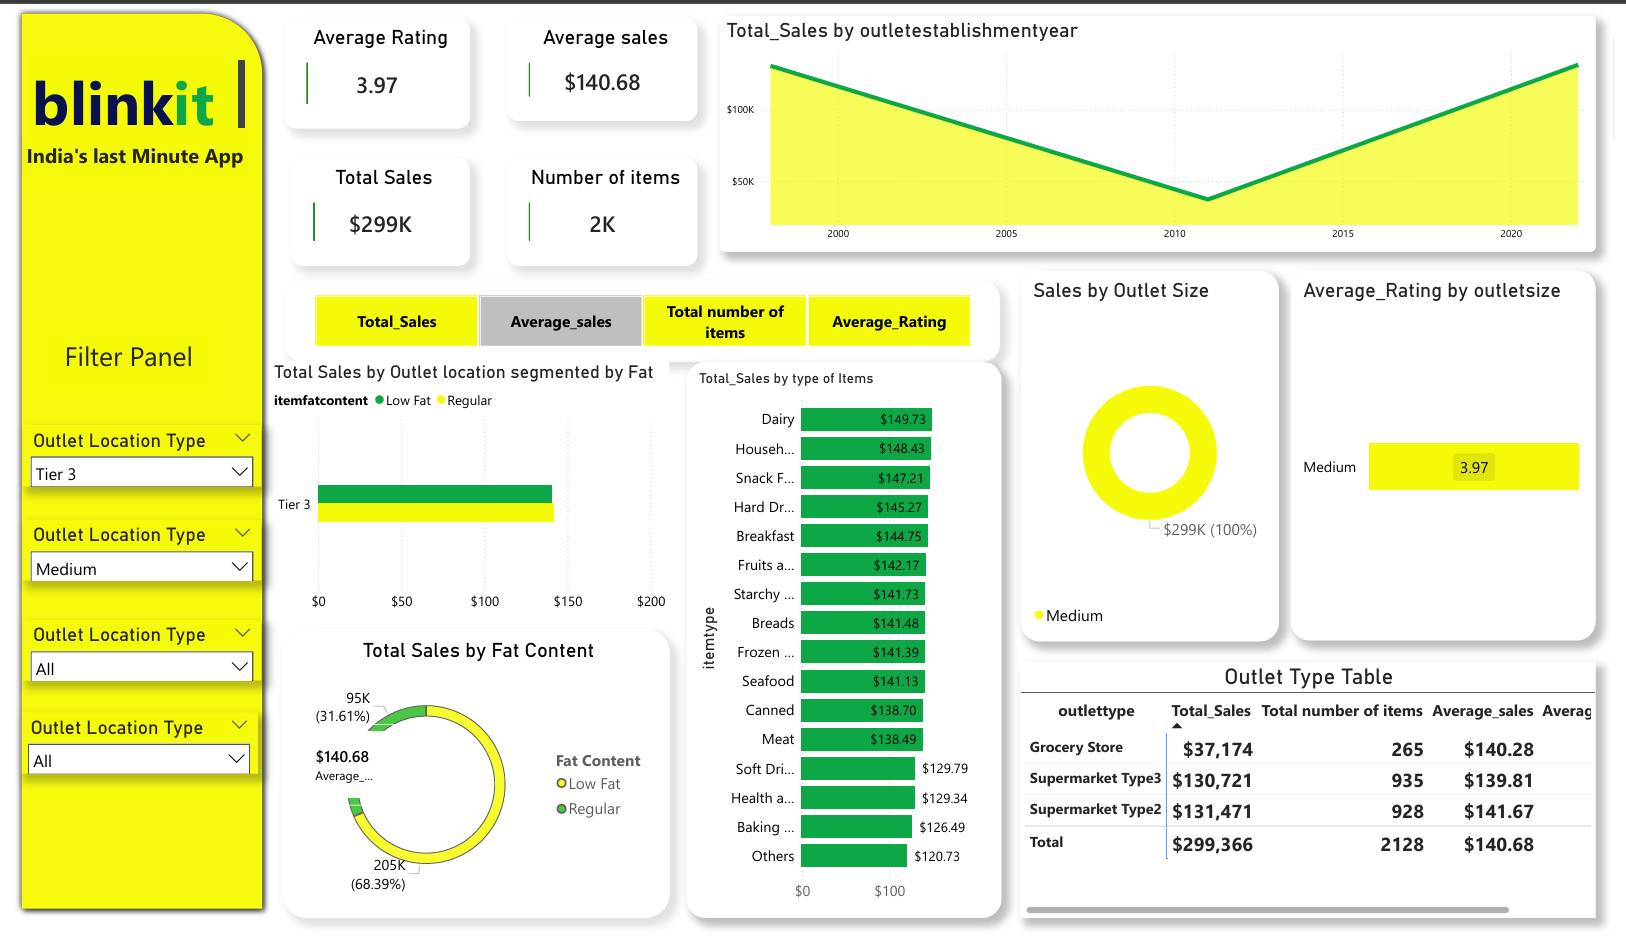

What the dashboard file says about the page in this screenshot:
{"tool":"powerbi","page":{"name":"Page 1","canvas":[1920,1920],"ordinal":0},"visuals":[{"type":"shape","box":[0,0,306.7,1093.3],"z":0},{"type":"textbox","box":[16.7,60,266.7,98.3],"z":1000},{"type":"textbox","box":[10,158.3,278.3,48.3],"z":2000},{"type":"cardVisual","title":"Average Rating","fields":{"Data":["public blinkit_sales.Average_Rating"]},"box":[325,15,221.7,131.7],"z":3000},{"type":"cardVisual","title":"Average sales","fields":{"Data":["public blinkit_sales.Average_sales"]},"box":[591.7,15,228.3,123.3],"z":4000},{"type":"cardVisual","title":"Total Sales","fields":{"Data":["public blinkit_sales.Total_Sales"]},"box":[333.3,183.3,213.3,128.3],"z":5000},{"type":"cardVisual","title":"Number of items","fields":{"Data":["public blinkit_sales.Total number of items"]},"box":[591.7,183.3,228.3,128.3],"z":6000},{"type":"donutChart","title":"Total Sales by Fat Content","fields":{"Category":["public blinkit_sales.itemfatcontent"],"Y":["Sum(public blinkit_sales.totalsales)"]},"box":[321.7,748.3,465,346.7],"z":7000},{"type":"slicer","fields":{"Values":["Metrics.Metrics"]},"box":[325,330,858.3,96.7],"z":8000},{"type":"cardVisual","fields":{"Data":["public blinkit_sales.Average_sales"]},"box":[325,861.7,138.3,98.3],"z":9000},{"type":"barChart","title":"Total_Sales by type of Items","fields":{"Y":["public blinkit_sales.Average_sales"],"Category":["public blinkit_sales.itemtype"]},"box":[806.7,426.7,378.3,668.3],"z":10000},{"type":"donutChart","title":"Sales by Outlet Size","fields":{"Y":["public blinkit_sales.Total_Sales"],"Category":["public blinkit_sales.outletsize"]},"box":[1208.3,318.3,310,445],"z":11000},{"type":"clusteredBarChart","title":"Total Sales by Outlet location segmented by Fat","fields":{"Y":["public blinkit_sales.Average_sales"],"Category":["public blinkit_sales.outletlocationtype"],"Series":["public blinkit_sales.itemfatcontent"]},"box":[306.7,426.7,480,310],"z":12000},{"type":"lineChart","fields":{"Category":["public blinkit_sales.outletestablishmentyear"],"Y":["public blinkit_sales.Total_Sales"]},"box":[846.7,11.7,1051.7,283.3],"z":13000},{"type":"funnel","fields":{"Category":["public blinkit_sales.outletsize"],"Y":["public blinkit_sales.Average_Rating"]},"box":[1531.7,316.7,366.7,445],"z":14000},{"type":"pivotTable","title":"Outlet Type Table","fields":{"Rows":["public blinkit_sales.outlettype"],"Values":["public blinkit_sales.Total_Sales","public blinkit_sales.Total number of items","public blinkit_sales.Average_sales","public blinkit_sales.Average_Rating"]},"box":[1208.3,788.3,690,306.7],"z":15000},{"type":"slicer","fields":{"Values":["public blinkit_sales.outletlocationtype"]},"box":[10,503.3,286.7,73.3],"z":16000},{"type":"slicer","fields":{"Values":["public blinkit_sales.outletsize"]},"box":[10,616.7,286.7,73.3],"z":17000},{"type":"slicer","fields":{"Values":["public blinkit_sales.itemtype"]},"box":[10,736.7,286.7,73.3],"z":18000},{"type":"textbox","box":[40,391.7,195,68.3],"z":19000},{"type":"slicer","fields":{"Values":["public blinkit_sales.outletestablishmentyear"]},"box":[6.7,848.3,286.7,73.3],"z":20000}]}

Visuals, with their boxes on the page's 1920x1920 design canvas (x1, y1, x2, y2). These are canvas units, not pixel positions in the 1626x943 screenshot, which may show the page scaled, cropped or inside an application window:
shape: (0, 0, 307, 1093)
textbox: (17, 60, 283, 158)
textbox: (10, 158, 288, 207)
"Average Rating" cardVisual: (325, 15, 547, 147)
"Average sales" cardVisual: (592, 15, 820, 138)
"Total Sales" cardVisual: (333, 183, 547, 312)
"Number of items" cardVisual: (592, 183, 820, 312)
"Total Sales by Fat Content" donutChart: (322, 748, 787, 1095)
slicer - Metrics.Metrics: (325, 330, 1183, 427)
cardVisual - public blinkit_sales.Average_sales: (325, 862, 463, 960)
"Total_Sales by type of Items" barChart: (807, 427, 1185, 1095)
"Sales by Outlet Size" donutChart: (1208, 318, 1518, 763)
"Total Sales by Outlet location segmented by Fat" clusteredBarChart: (307, 427, 787, 737)
lineChart - public blinkit_sales.outletestablishmentyear x public blinkit_sales.Total_Sales: (847, 12, 1898, 295)
funnel - public blinkit_sales.outletsize x public blinkit_sales.Average_Rating: (1532, 317, 1898, 762)
"Outlet Type Table" pivotTable: (1208, 788, 1898, 1095)
slicer - public blinkit_sales.outletlocationtype: (10, 503, 297, 577)
slicer - public blinkit_sales.outletsize: (10, 617, 297, 690)
slicer - public blinkit_sales.itemtype: (10, 737, 297, 810)
textbox: (40, 392, 235, 460)
slicer - public blinkit_sales.outletestablishmentyear: (7, 848, 293, 922)
